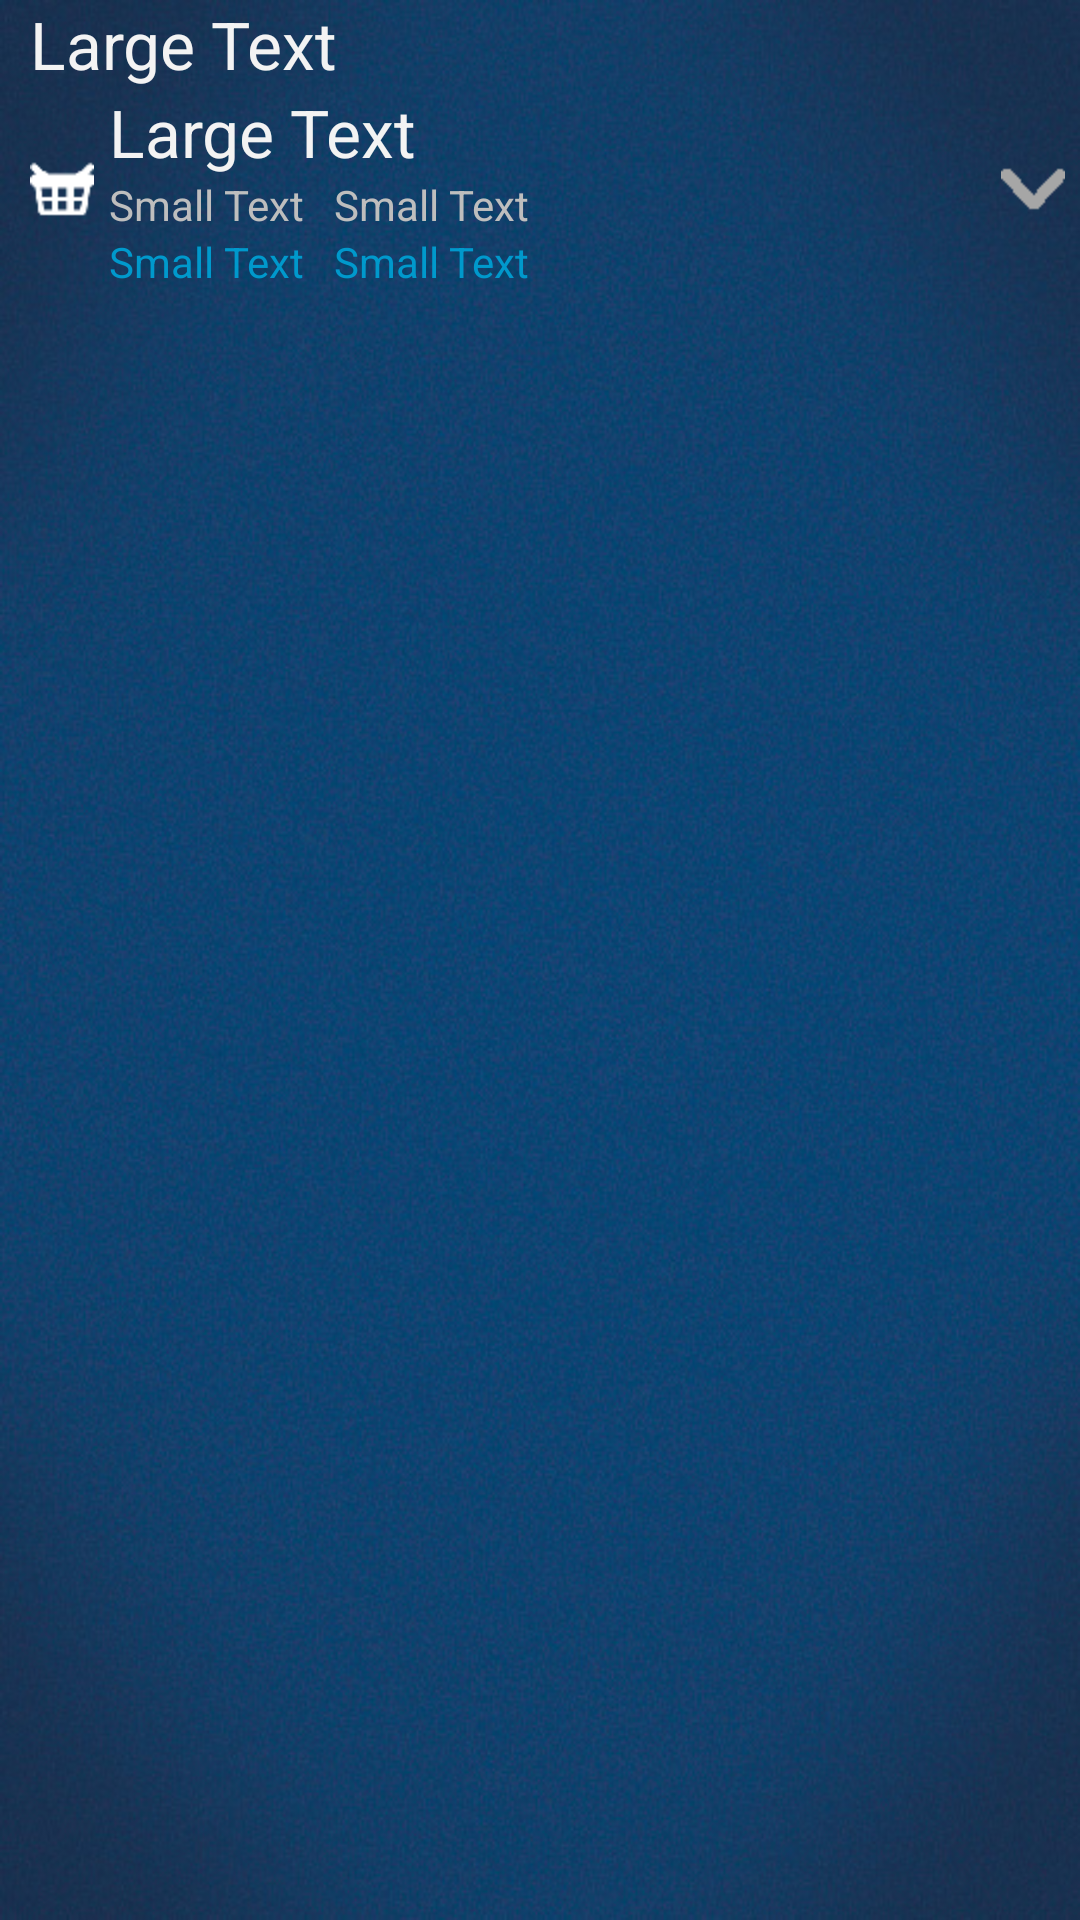

Screen size 1080w x 1920h. Icon name, then its box in pixels as {"left": x1, "top": y1, "right": x2, "bottom": y2}:
down: {"left": 1001, "top": 168, "right": 1065, "bottom": 210}
items: {"left": 30, "top": 162, "right": 94, "bottom": 216}
